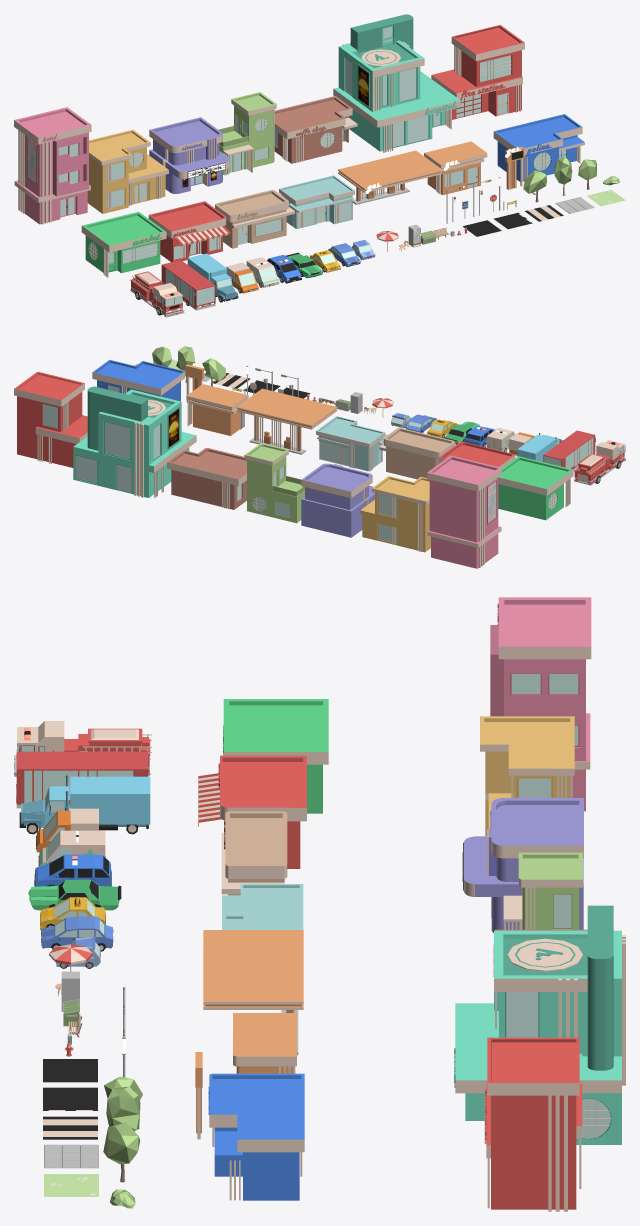
The model's file is CityLowpolyassets.fbx.
The picture shows the model from 3 angles, top to bottom: view 1: azimuth 30°, elevation 25°; view 2: azimuth 150°, elevation 25°; view 3: azimuth 270°, elevation 25°; orthographic projection. The views are drawn at different scales.
Visible parts, largest first — view 1: hospital, hotel, fire_station, yellow_house, cinema, coffe_shop, market, police_station, green_house, pizzeria, bakery, gas_station (+14 smaller); view 2: hospital, hotel, fire_station, cinema, yellow_house, coffe_shop, market, green_house, gas_station, blue_house, police_station, bakery (+15 smaller); view 3: hospital, fire_station, hotel, police_station, cinema, gas_station, yellow_house, market, pizzeria, green_house, truck, bakery (+17 smaller).
Part boxes in pixels (x1=…): hospital: x1=333, y1=14, x2=460, y2=152; hotel: x1=14, y1=107, x2=91, y2=224; fire_station: x1=431, y1=25, x2=524, y2=119; yellow_house: x1=87, y1=129, x2=168, y2=213; cinema: x1=149, y1=117, x2=230, y2=193; coffe_shop: x1=274, y1=96, x2=357, y2=163; market: x1=81, y1=211, x2=166, y2=277; police_station: x1=493, y1=114, x2=584, y2=181; green_house: x1=218, y1=92, x2=276, y2=175; pizzeria: x1=148, y1=201, x2=230, y2=262; bakery: x1=215, y1=190, x2=294, y2=248; gas_station: x1=338, y1=150, x2=442, y2=204; hospital: x1=73, y1=386, x2=196, y2=497; hotel: x1=427, y1=455, x2=501, y2=568; fire_station: x1=14, y1=371, x2=87, y2=467; cinema: x1=301, y1=463, x2=374, y2=537; yellow_house: x1=360, y1=476, x2=430, y2=552; coffe_shop: x1=167, y1=448, x2=247, y2=509; market: x1=498, y1=456, x2=573, y2=520; green_house: x1=244, y1=443, x2=304, y2=523; gas_station: x1=236, y1=388, x2=337, y2=454; blue_house: x1=316, y1=416, x2=387, y2=471; police_station: x1=92, y1=359, x2=184, y2=401; bakery: x1=379, y1=427, x2=455, y2=479; hospital: x1=454, y1=905, x2=625, y2=1144; fire_station: x1=485, y1=1037, x2=582, y2=1211; hotel: x1=490, y1=597, x2=591, y2=811; police_station: x1=208, y1=1073, x2=304, y2=1200; cinema: x1=462, y1=798, x2=583, y2=932; gas_station: x1=202, y1=930, x2=303, y2=1055; yellow_house: x1=480, y1=716, x2=574, y2=836; market: x1=223, y1=699, x2=328, y2=813; pizzeria: x1=198, y1=755, x2=306, y2=868; green_house: x1=503, y1=852, x2=582, y2=929; truck: x1=19, y1=775, x2=150, y2=834; bakery: x1=221, y1=811, x2=287, y2=895.
Bounding box in the file's own units: 5760 × 1056 × 3323.
